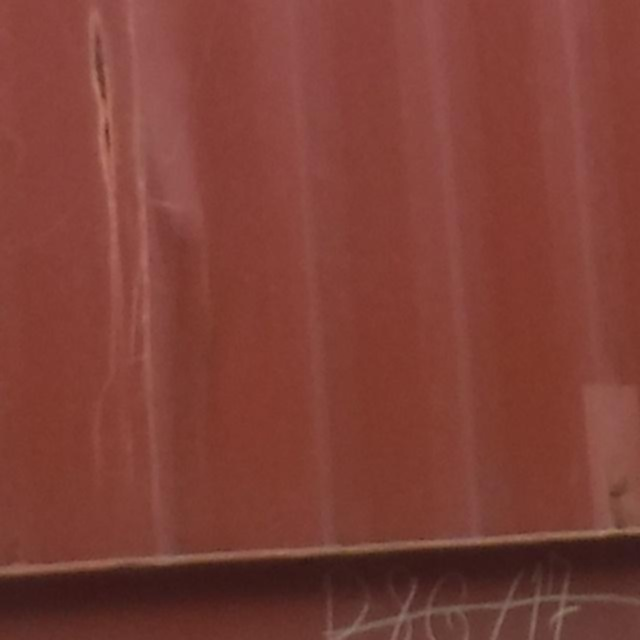Dent: (129, 80, 334, 400)
